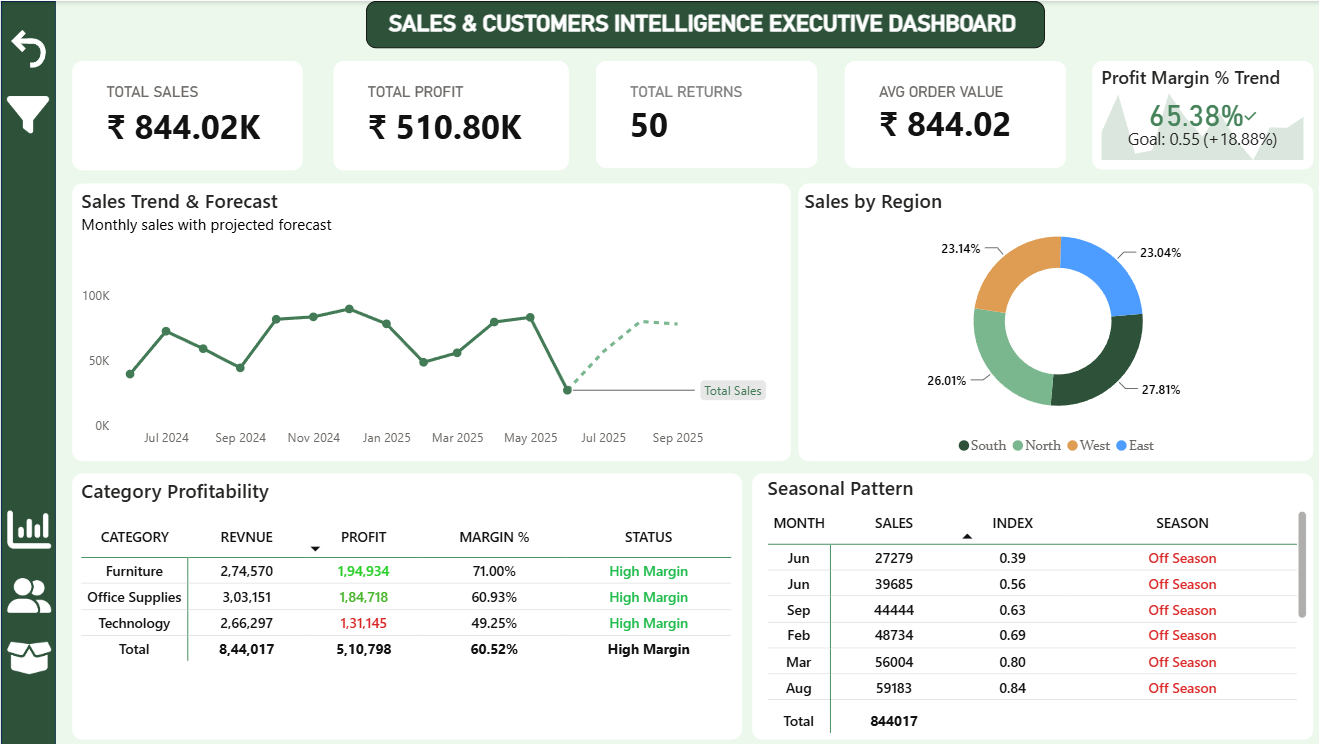

What the dashboard file says about the page in this screenshot:
{"tool":"powerbi","page":{"name":"Executive Dashboard","canvas":[1280,720],"ordinal":0},"visuals":[{"type":"cardVisual","fields":{"Data":["Measures (2).Total Sales"]},"box":[69.1,57.8,222.3,105.5],"z":0},{"type":"cardVisual","fields":{"Data":["Measures (2).Total Profit"]},"box":[321.1,57.6,227.6,105.3],"z":1000},{"type":"cardVisual","fields":{"Data":["Measures (2).Avg Order Value"]},"box":[813.9,58.5,213.4,103.6],"z":2000},{"type":"donutChart","title":"Sales by Region","fields":{"Category":["Region_Dim.RegionName"],"Y":["Measures (2).Total Sales"]},"box":[769.7,176.1,497.1,267.8],"z":3000},{"type":"lineChart","title":"Sales Trend & Forecast","fields":{"Y":["Measures (2).Total Sales"],"Category":["Date_Dim.Date.Variation.Date Hierarchy.Year","Date_Dim.Date.Variation.Date Hierarchy.Quarter","Date_Dim.Date.Variation.Date Hierarchy.Month","Date_Dim.Date.Variation.Date Hierarchy.Day"]},"box":[68.8,176.1,693.7,267.8],"z":4000},{"type":"pivotTable","title":"Category Profitability","fields":{"Rows":["Product_Dim.Category"],"Values":["Measures (2).Total Revenue","Measures (2).Total Profit","Measures (2).Profit Margin %","Measures (2).Profit Margin Classification"]},"box":[68.8,456,646.7,257],"z":5000},{"type":"pivotTable","title":"Seasonal Pattern","fields":{"Rows":["Date_Dim.Year-Month"],"Values":["Measures (2).Total Sales","Measures (2).Seasonal Index","Measures (2).Season Classification"]},"box":[725.1,456,541.7,257],"z":6000},{"type":"kpi","title":"Profit Margin % Trend","fields":{"TrendLine":["Date_Dim.Year-Month"],"Goal":["Measures (2).Margin Target"],"Indicator":["Measures (2).Profit Margin %"]},"box":[1053.2,57.9,213.4,104.8],"z":7000},{"type":"cardVisual","fields":{"Data":["Measures (2).Total Returns"]},"box":[574.6,58.5,213.4,103.6],"z":8000},{"type":"shape","box":[0,0,53.1,720.2],"z":9000},{"type":"textbox","box":[352.3,0,655.1,45.8],"z":10000},{"type":"image","box":[6,615.3,42.2,37.4],"z":11000},{"type":"image","box":[5,91.9,42.2,36],"z":12000},{"type":"image","box":[6,548.9,42.2,49.5],"z":13000},{"type":"image","box":[6,486.2,42.2,48.3],"z":14000},{"type":"actionButton","box":[0,22.3,53.4,45.9],"z":15000}]}

Visuals, with their boxes on the page's 1280x720 design canvas (x1, y1, x2, y2). These are canvas units, not pixel positions in the 1319x744 screenshot, which may show the page scaled, cropped or inside an application window:
cardVisual - Measures (2).Total Sales: l=69, t=58, r=291, b=163
cardVisual - Measures (2).Total Profit: l=321, t=58, r=549, b=163
cardVisual - Measures (2).Avg Order Value: l=814, t=58, r=1027, b=162
"Sales by Region" donutChart: l=770, t=176, r=1267, b=444
"Sales Trend & Forecast" lineChart: l=69, t=176, r=762, b=444
"Category Profitability" pivotTable: l=69, t=456, r=716, b=713
"Seasonal Pattern" pivotTable: l=725, t=456, r=1267, b=713
"Profit Margin % Trend" kpi: l=1053, t=58, r=1267, b=163
cardVisual - Measures (2).Total Returns: l=575, t=58, r=788, b=162
shape: l=0, t=0, r=53, b=720
textbox: l=352, t=0, r=1007, b=46
image: l=6, t=615, r=48, b=653
image: l=5, t=92, r=47, b=128
image: l=6, t=549, r=48, b=598
image: l=6, t=486, r=48, b=534
actionButton: l=0, t=22, r=53, b=68
